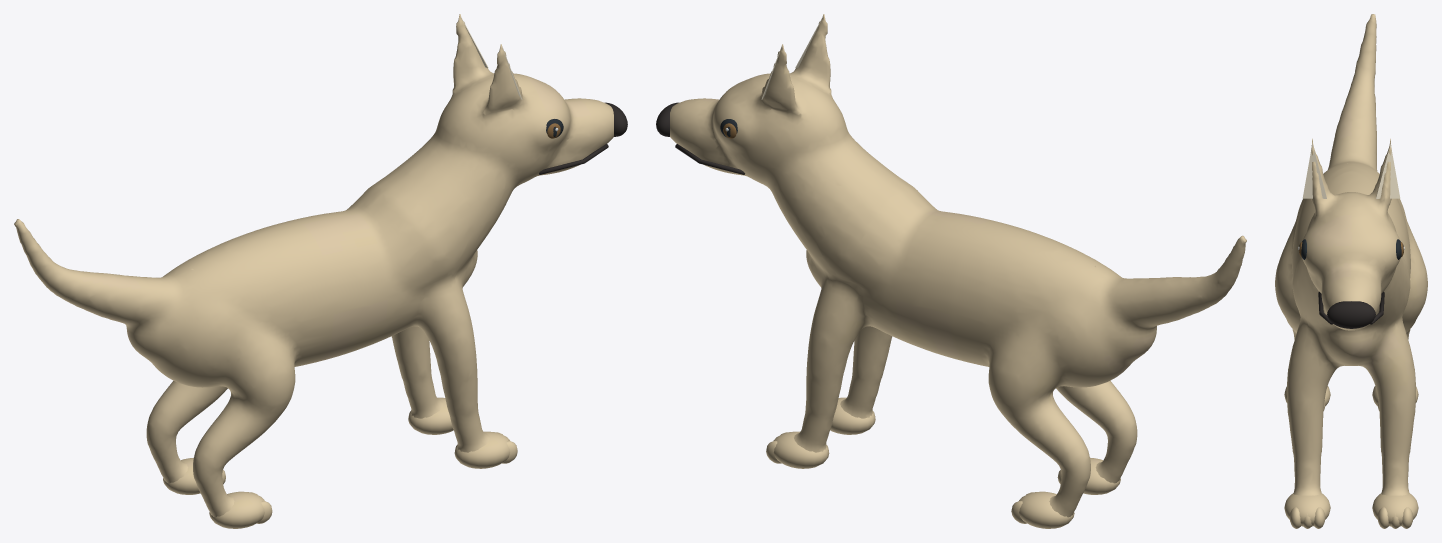
Rendered from nature-dog-small.glb.
The picture shows the model from 3 angles, left to right: view 1: azimuth 30°, elevation 25°; view 2: azimuth 150°, elevation 25°; view 3: azimuth 270°, elevation 25°; orthographic projection. The views are drawn at different scales.
Parts seen in each view (by area): view 1: Continuous anatomical skin, Rounded paw.001, Rounded paw, Rounded paw.002; view 2: Continuous anatomical skin, Rounded paw.003, Rounded paw.002, Rounded paw; view 3: Continuous anatomical skin, Nose, Rounded paw, Rounded paw.002, Inner ear, Inner ear.001, Toe, Toe.002, Toe.006, Toe.008.
Part boxes in pixels (box(x1,y1,x2,y2)): Continuous anatomical skin: box(14, 14, 613, 517); Rounded paw.001: box(209, 491, 264, 528); Rounded paw: box(454, 431, 509, 468); Rounded paw.002: box(408, 397, 453, 434); Continuous anatomical skin: box(670, 14, 1246, 517); Rounded paw.003: box(1019, 491, 1074, 528); Rounded paw.002: box(773, 431, 829, 468); Rounded paw: box(830, 397, 875, 434); Continuous anatomical skin: box(1275, 14, 1427, 495); Nose: box(1327, 301, 1375, 328); Rounded paw: box(1284, 493, 1330, 526); Rounded paw.002: box(1372, 493, 1418, 526); Inner ear: box(1302, 143, 1326, 198); Inner ear.001: box(1376, 143, 1400, 198); Toe: box(1289, 507, 1301, 528); Toe.002: box(1314, 507, 1325, 528); Toe.006: box(1377, 507, 1388, 528); Toe.008: box(1401, 507, 1413, 528).
Size of the model in its own units: 0.5117 by 0.34 by 0.1199.
Materials: 6 (6 with a texture image).
